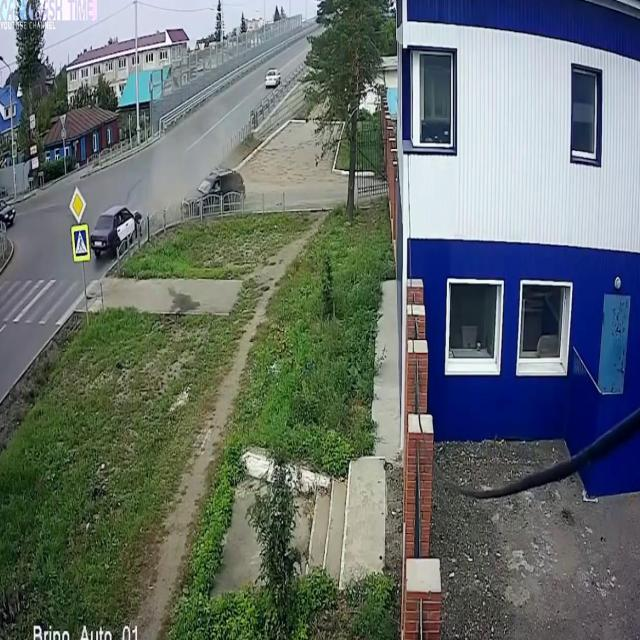accident: (86, 161, 250, 269)
